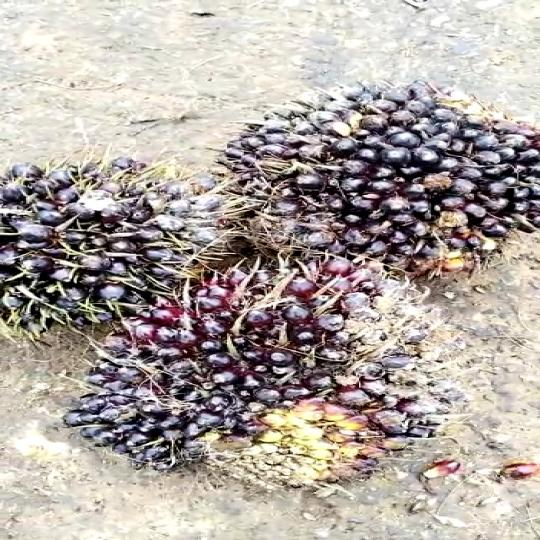mentah: (82, 262, 462, 492), (222, 83, 540, 293), (0, 137, 228, 337)
